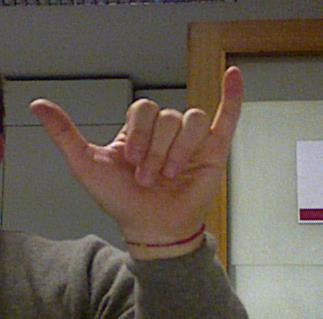clockwise: (28, 65, 243, 242)
